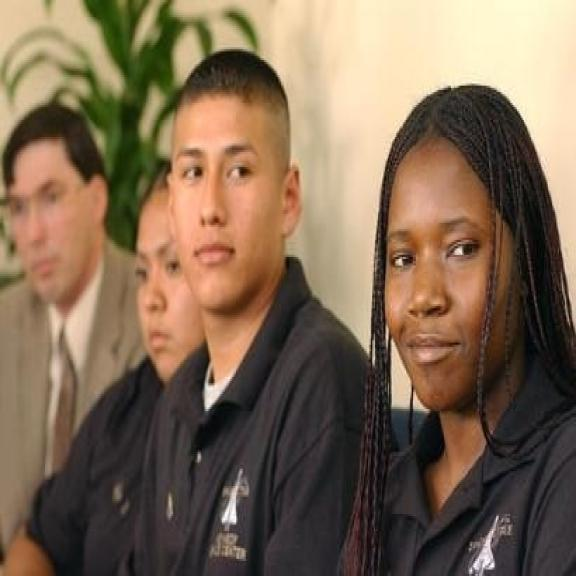face: (377, 84, 543, 416), (168, 57, 303, 315), (4, 142, 120, 305), (134, 174, 201, 384)
